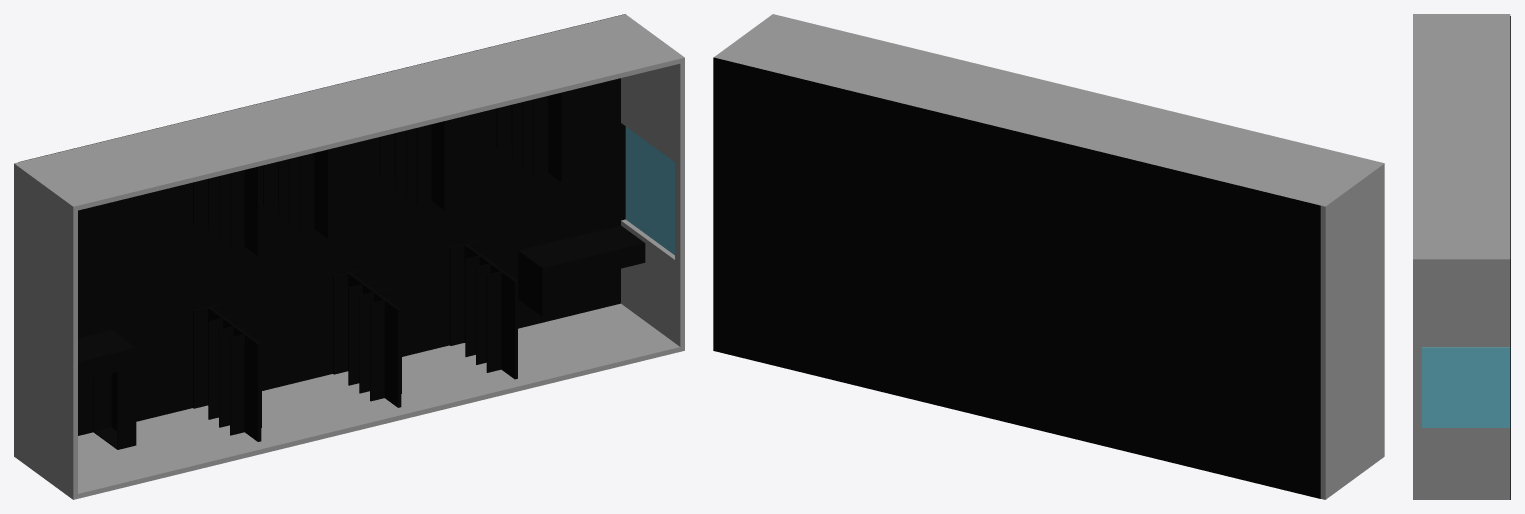
The model's file is SmartBuy.fbx.
3 renders of one model, left to right at view 1: azimuth 30°, elevation 25°; view 2: azimuth 150°, elevation 25°; view 3: azimuth 270°, elevation 25°, orthographic. The views are drawn at different scales.
Parts seen in each view (by area): view 1: Walls, Floor, Body1 (×3), Shelf (2) (2), Shelf (2) (1), Shelf (2), Shelf, Shelf (1), Shelf (2) (3), Shelf (1) (1), Body2; view 2: Floor, Walls; view 3: Walls, Body1, Body2, Floor.
Part boxes in pixels (x1,y1,x2,y2): Walls: (14, 14, 684, 499); Floor: (18, 14, 625, 435); Body1 (×3): (78, 126, 674, 449); Shelf (2) (2): (193, 303, 261, 441); Shelf (2) (1): (333, 268, 401, 407); Shelf (2): (449, 240, 517, 379); Shelf: (496, 92, 565, 182); Shelf (1): (379, 120, 448, 210); Shelf (2) (3): (193, 165, 261, 256); Shelf (1) (1): (263, 148, 331, 239); Body2: (625, 171, 674, 254); Floor: (713, 57, 1320, 498); Walls: (714, 14, 1384, 499); Walls: (1413, 14, 1510, 499); Body1: (1422, 347, 1510, 387); Body2: (1422, 387, 1510, 427); Floor: (1510, 16, 1510, 499).
Size of the model in its own units: 13110 by 6000 by 2210.
